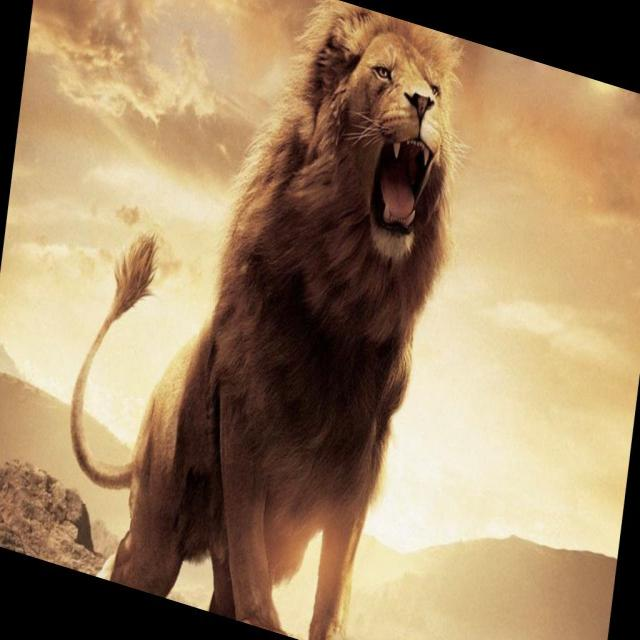Lion: (52, 0, 483, 639)
